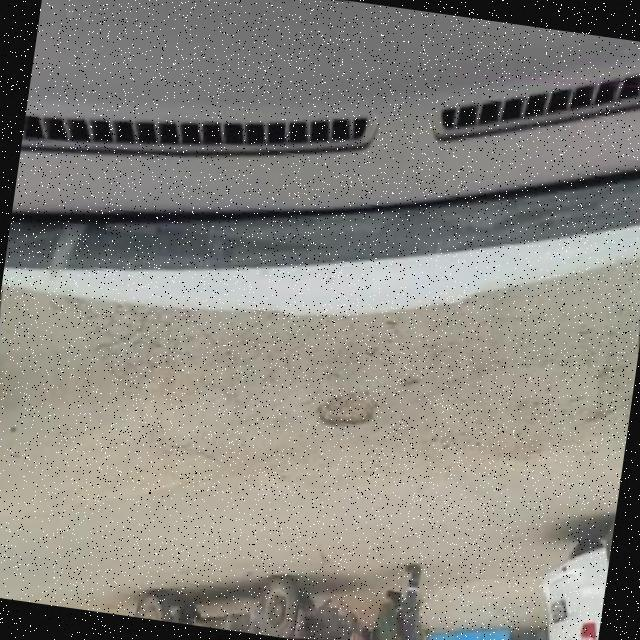Pothole: (317, 390, 380, 427)
